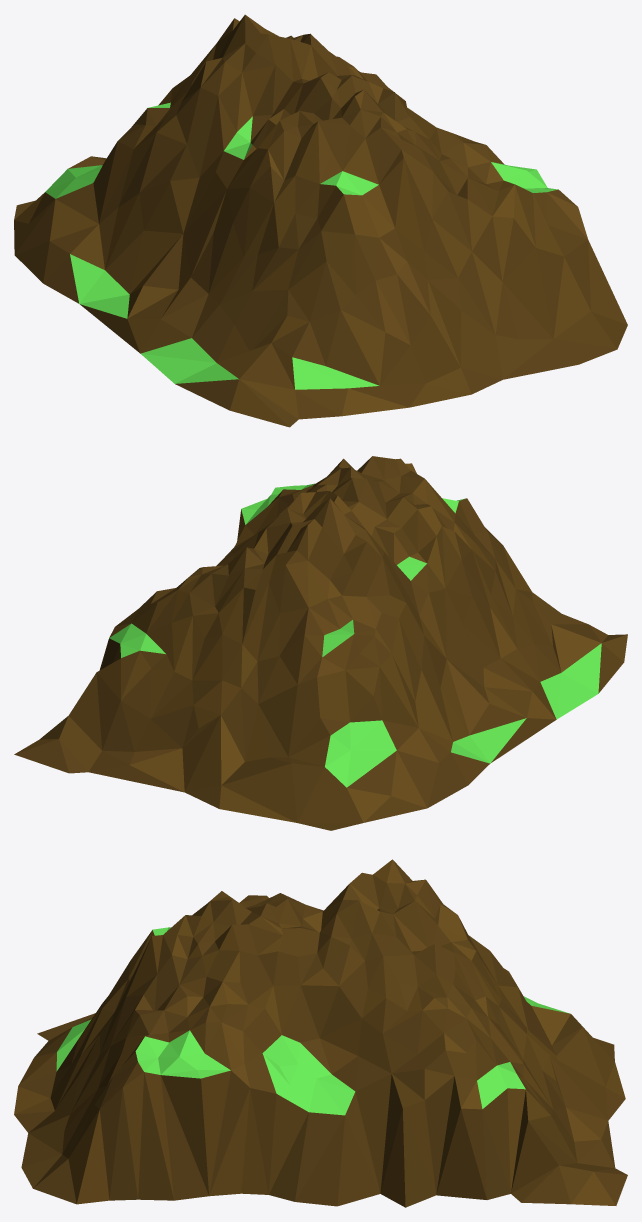
File: MOUNTAIN.fbx
The picture shows the model from 3 angles, top to bottom: view 1: azimuth 30°, elevation 25°; view 2: azimuth 150°, elevation 25°; view 3: azimuth 270°, elevation 25°; orthographic projection. The views are drawn at different scales.
Visible parts, largest first — view 1: MOUNTAIN; view 2: MOUNTAIN; view 3: MOUNTAIN.
Part boxes in pixels (x1,y1,x2,y2): MOUNTAIN: [14, 14, 627, 427]; MOUNTAIN: [14, 456, 627, 830]; MOUNTAIN: [14, 859, 627, 1207].
Size of the model in its own units: 1100 by 635 by 1472.
